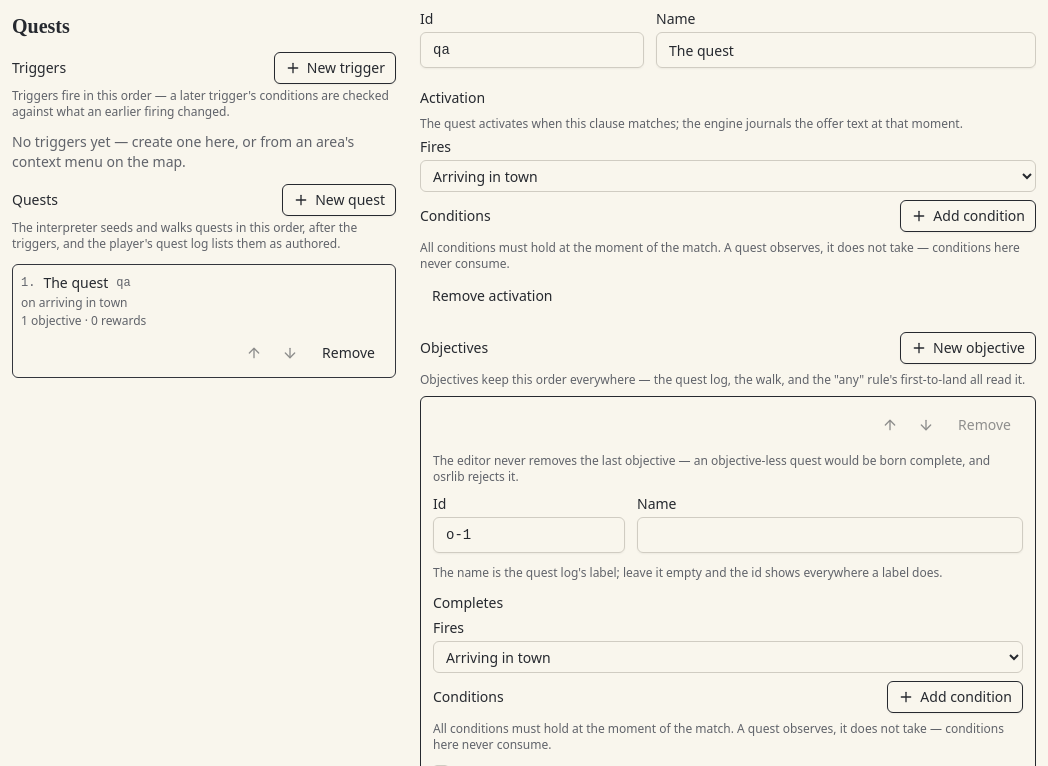
Test: a clause condition on the activation commits with consumes suppressed
Click the 1st button "Add condition": (968,216) [900,200,1036,232]
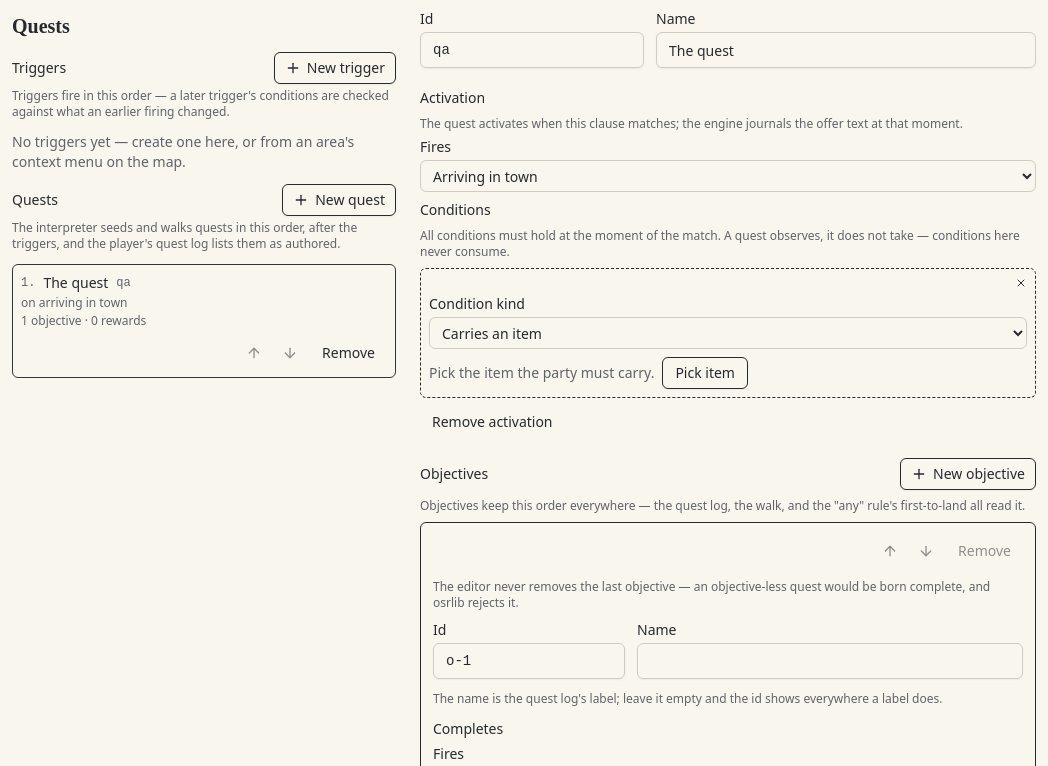
Expected: the element labelled "Activation" shows "A quest observes, it does not take", [724,227,914,244]
Result: the dropdown labelled "Condition kind" is shown at [429,317,1027,349]
